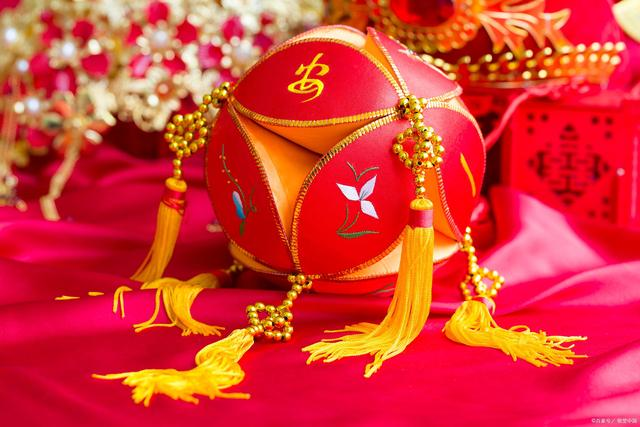xiuqiu: (210, 24, 492, 310)
